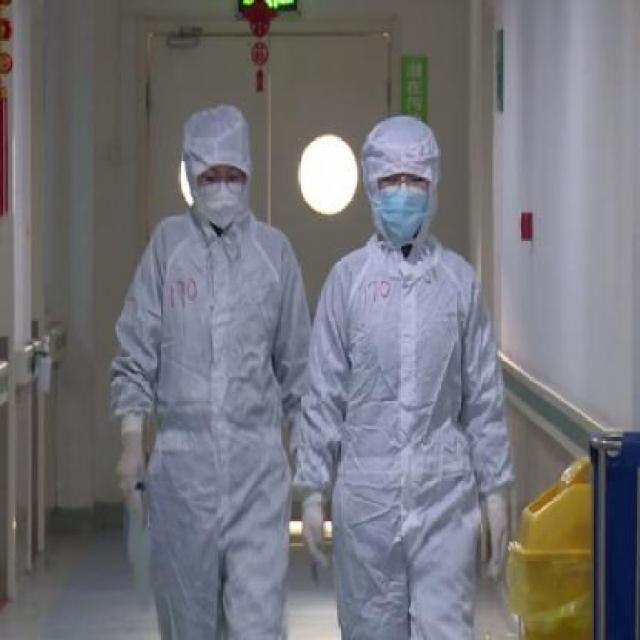face_mask: (375, 168, 434, 249), (200, 162, 245, 224)
glasses: (375, 170, 433, 198), (195, 168, 247, 194)
hand_glove: (114, 441, 144, 514), (300, 506, 331, 572), (484, 505, 508, 583)
person: (296, 114, 518, 640), (103, 103, 320, 640)
